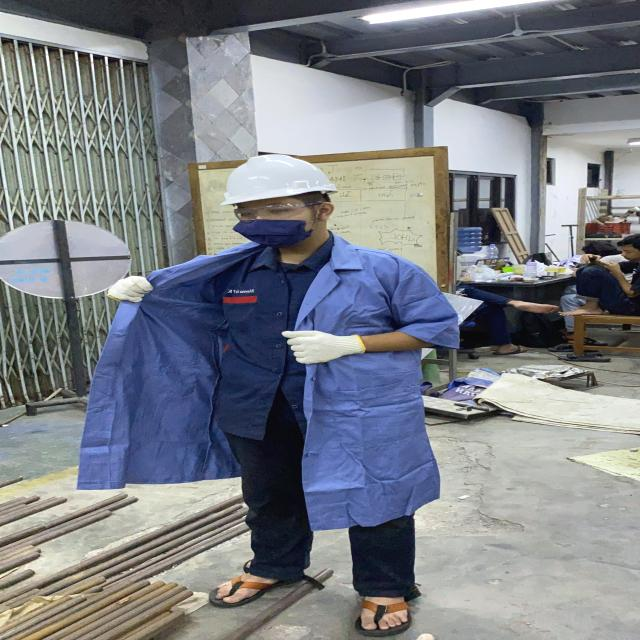face_mask: (230, 197, 318, 246)
glasses: (227, 195, 320, 224)
hand_glove: (272, 326, 368, 368), (100, 269, 162, 303)
head_helmet: (220, 152, 342, 204)
person: (77, 146, 464, 620)
